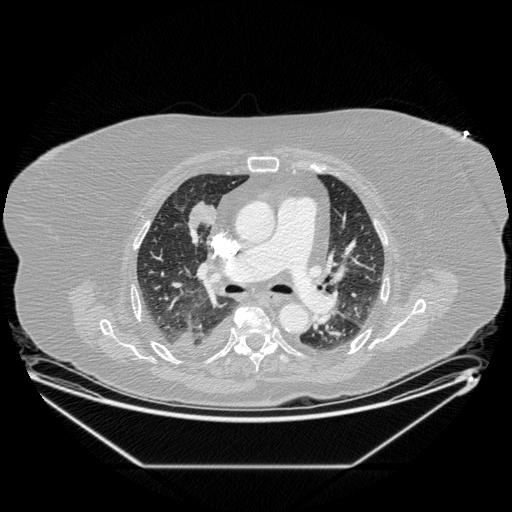nodule: (187, 202, 214, 229)
